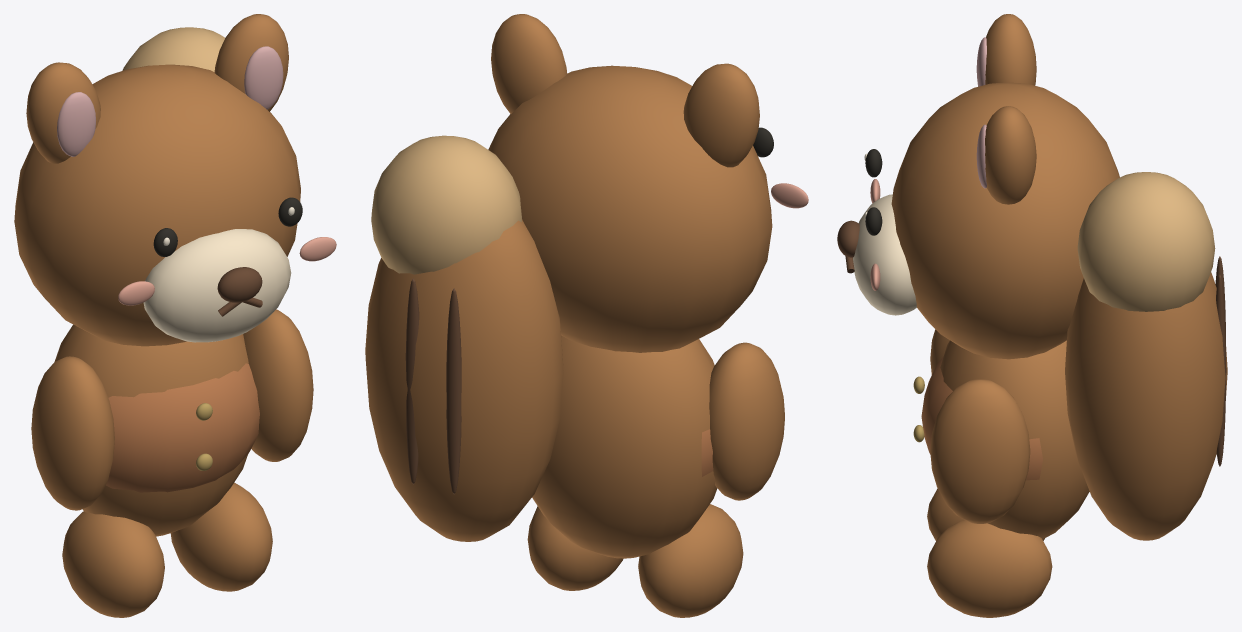
File: squirrel.glb
3 renders of one model, left to right at view 1: azimuth 30°, elevation 25°; view 2: azimuth 150°, elevation 25°; view 3: azimuth 270°, elevation 25°, orthographic. The views are drawn at different scales.
Visible parts, largest first — view 1: Head, Soft waistcoat.001, Body.001, Muzzle, arm_L.001, foot_L.001, arm_R.001, foot_R.001, Ear.002, Ear.003, Tail curl tip, Inner ear.002 (+6 smaller); view 2: Head, Large curled tail, Body.001, Tail curl tip, arm_L.001, foot_L.001, Ear.002, Ear.003, foot_R.001, Tail stripe, Tail stripe.001, Blush.002; view 3: Head, Large curled tail, Tail curl tip, Body.001, arm_R.001, foot_R.001, Muzzle, Ear.003, Ear.002, Soft waistcoat.001, foot_L.001, Tail stripe.001 (+1 smaller).
Boxes of the visible parts, x1,y1,x2,y2 form: Head: (14, 64, 300, 346); Soft waistcoat.001: (106, 363, 259, 492); Body.001: (54, 324, 248, 536); Muzzle: (143, 229, 291, 342); arm_L.001: (31, 356, 114, 510); foot_L.001: (62, 511, 164, 617); arm_R.001: (243, 309, 313, 461); foot_R.001: (170, 482, 272, 591); Ear.002: (26, 62, 100, 163); Ear.003: (214, 14, 288, 111); Tail curl tip: (122, 27, 224, 71); Inner ear.002: (57, 92, 95, 156); Head: (488, 65, 772, 352); Large curled tail: (365, 220, 563, 541); Body.001: (532, 335, 717, 558); Tail curl tip: (371, 135, 522, 274); arm_L.001: (709, 342, 784, 500); foot_L.001: (638, 504, 743, 617); Ear.002: (683, 63, 759, 167); Ear.003: (491, 14, 567, 113); foot_R.001: (527, 506, 623, 590); Tail stripe: (446, 288, 461, 494); Tail stripe.001: (405, 278, 419, 484); Blush.002: (771, 183, 808, 208); Head: (891, 82, 1119, 359); Large curled tail: (1065, 272, 1227, 540); Tail curl tip: (1077, 172, 1215, 311); Body.001: (940, 340, 1089, 538); arm_R.001: (930, 379, 1030, 523); foot_R.001: (927, 519, 1052, 617); Muzzle: (853, 194, 916, 315); Ear.003: (985, 106, 1036, 204); Ear.002: (985, 14, 1036, 85); Soft waistcoat.001: (921, 357, 1042, 480); foot_L.001: (927, 488, 1044, 540); Tail stripe.001: (1216, 274, 1226, 466).
Size of the model in its own units: 1.08 by 1.86 by 1.25.
